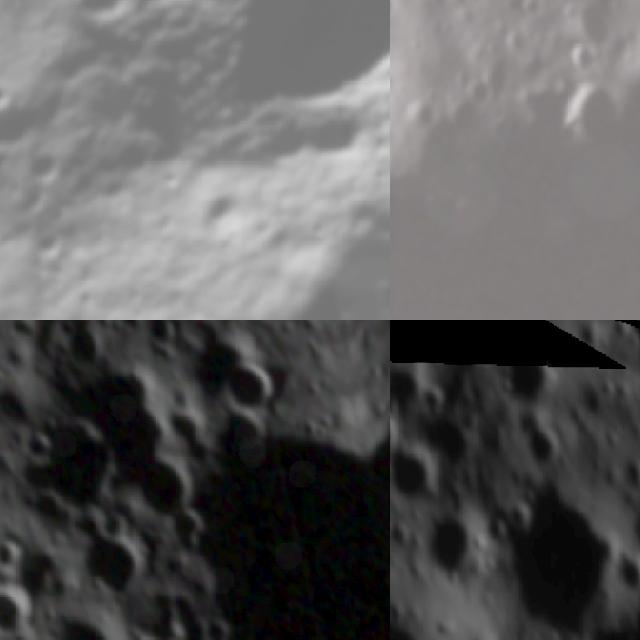crater: (163, 397, 390, 640), (161, 0, 390, 173), (498, 494, 620, 640), (108, 438, 204, 536), (67, 516, 161, 616), (212, 343, 298, 432), (414, 505, 488, 596), (189, 165, 267, 245), (40, 592, 135, 640), (17, 135, 79, 198), (496, 348, 558, 410), (418, 417, 478, 478), (57, 0, 151, 36), (0, 565, 45, 640), (558, 84, 614, 144), (57, 320, 113, 379), (390, 451, 443, 511), (390, 361, 436, 430), (508, 419, 562, 476), (0, 523, 37, 578), (156, 295, 230, 320), (614, 545, 640, 602), (466, 69, 501, 103), (390, 411, 406, 463), (517, 0, 549, 23), (563, 48, 598, 68)
